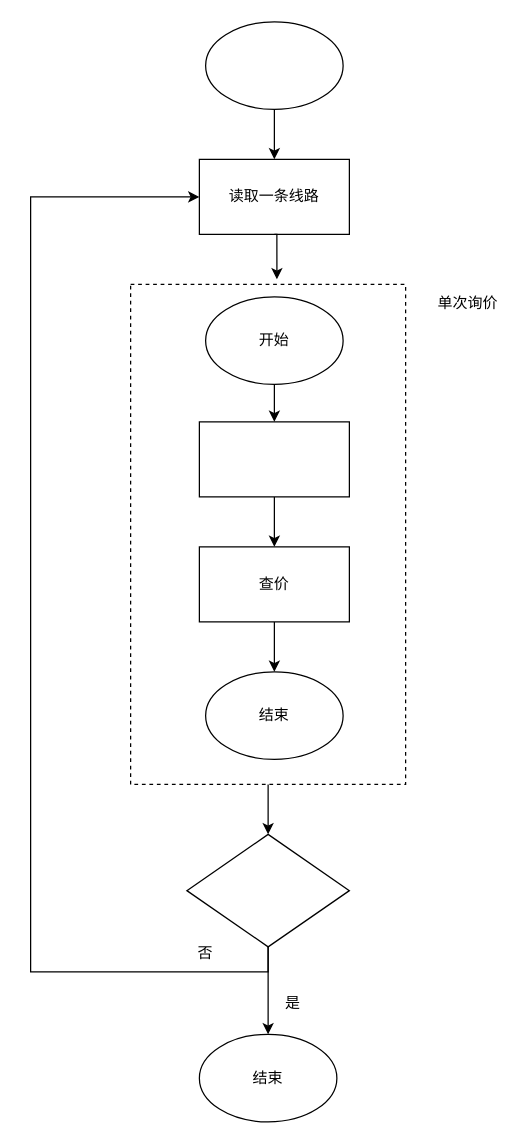
Some shapes in this 528 by 1144 pixel diagram are drawn without their labels. The shapes that lost their labels are listed below. From the top down, each one's box as (x1, y1, x2, y2) in pixels, then its label:
(204, 21, 343, 109): 导入报价
(198, 421, 349, 497): 查询Redis港口数据
(186, 833, 349, 947): 遍历是否结束
